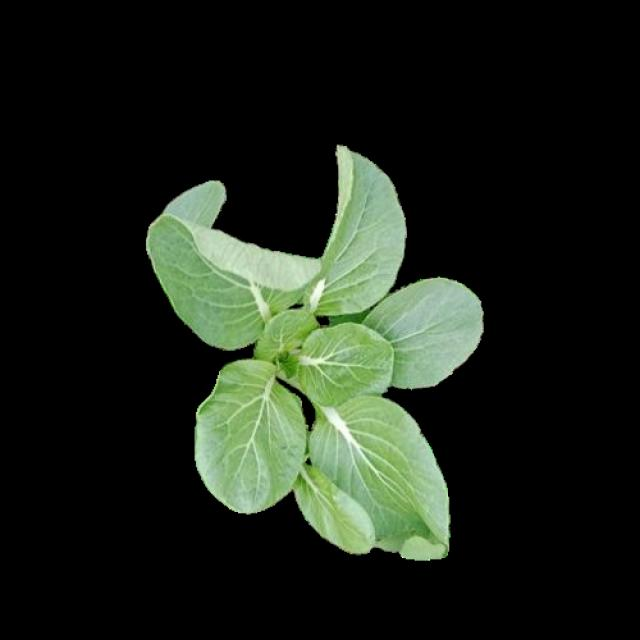healthy: (143, 143, 480, 557)
not-mature: (146, 146, 482, 559)
